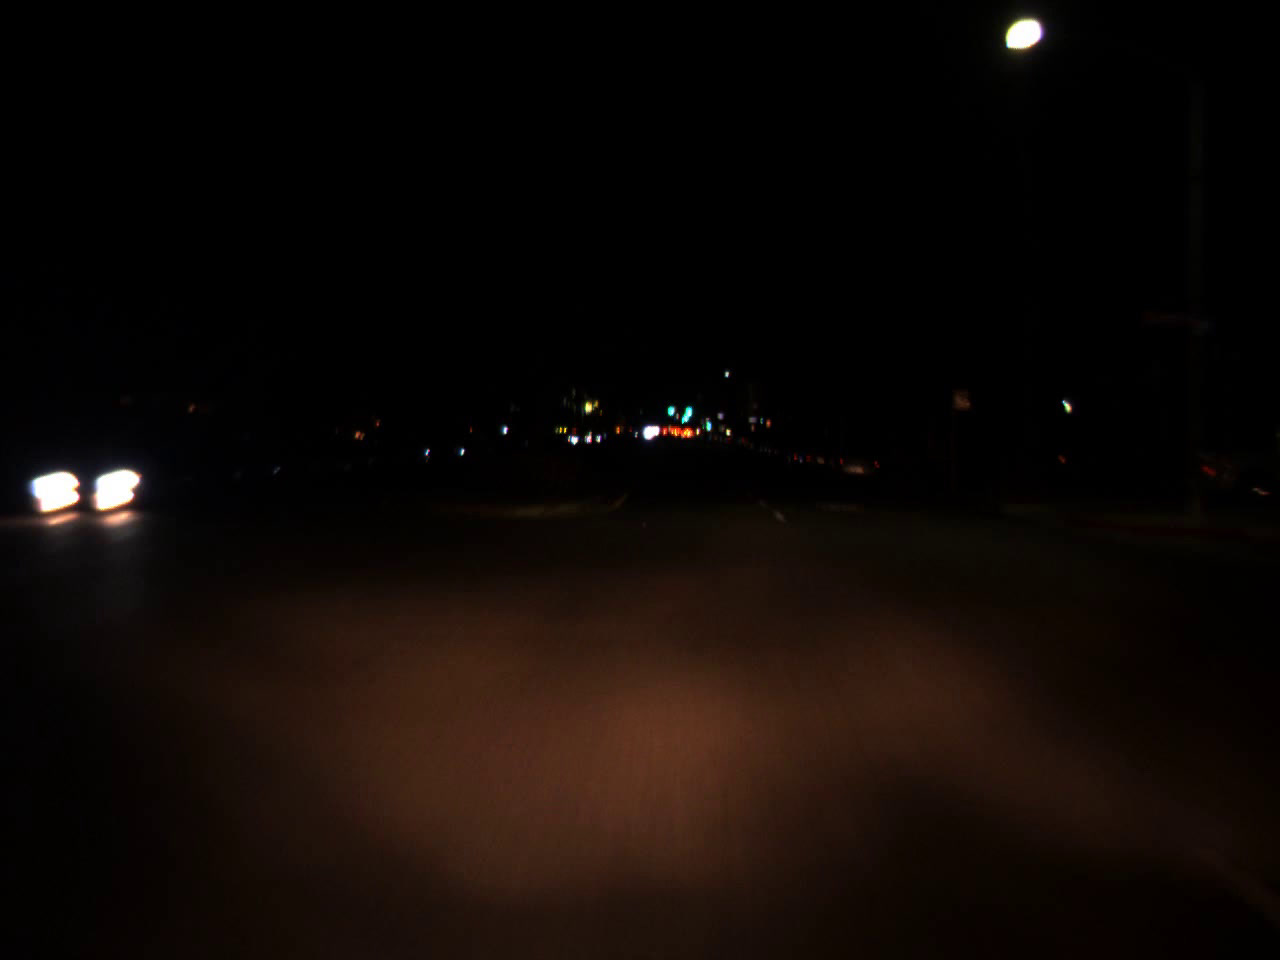go: (680, 392, 692, 419), (665, 397, 675, 418), (705, 410, 712, 434)
